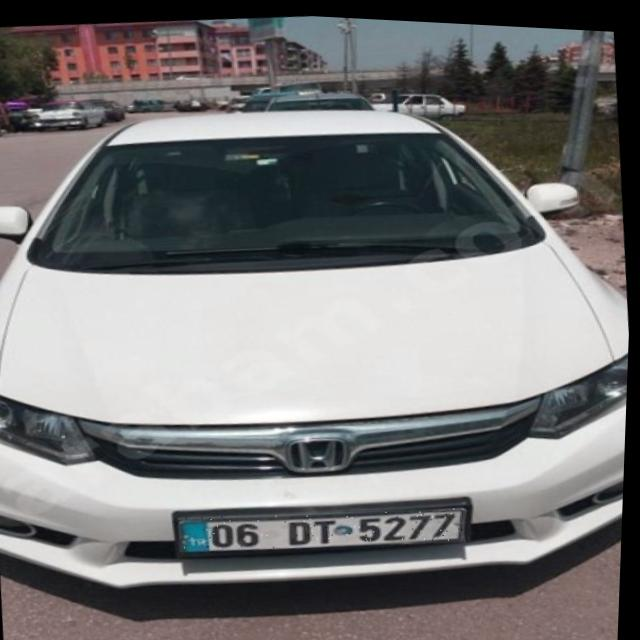license_plate: (181, 491, 470, 561)
